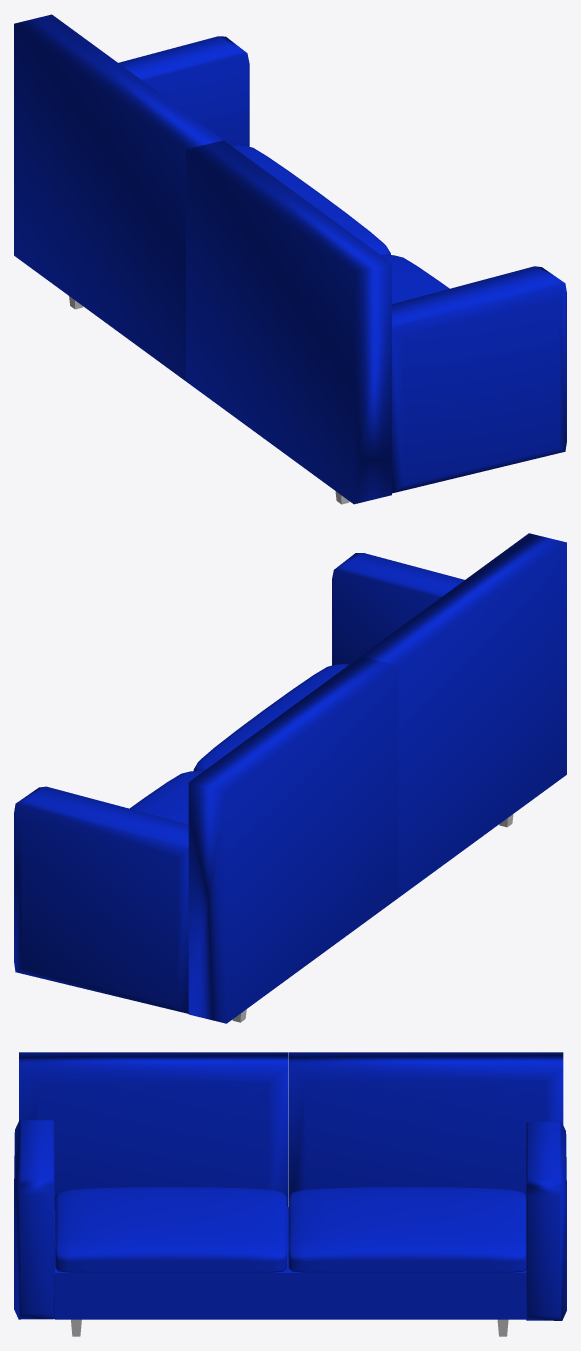
File: sofa.fbx
3 views of the same model, one above another, from view 1: azimuth 30°, elevation 25°; view 2: azimuth 150°, elevation 25°; view 3: azimuth 270°, elevation 25° (orthographic). The views are drawn at different scales.
Visible parts, largest first — view 1: Cube.005, Cube.004, Cube.003, Cube.002, Cube.006, Cube; view 2: Cube.004, Cube.005, Cube.002, Cube.003, Cube, Cube.006; view 3: Cube.004, Cube.005, Cube.001, Cube.006, Cube, Cube.003, Cube.002, Cube.007.
Part boxes in pixels (x1,y1,x2,y2): Cube.005: (186, 140, 391, 504); Cube.004: (14, 14, 223, 380); Cube.003: (392, 266, 566, 493); Cube.002: (118, 36, 249, 146); Cube.006: (231, 145, 390, 255); Cube: (381, 254, 449, 303); Cube.004: (188, 656, 398, 1023); Cube.005: (361, 533, 566, 897); Cube.002: (14, 786, 188, 1013); Cube.003: (332, 553, 464, 665); Cube: (193, 664, 348, 771); Cube.006: (130, 771, 202, 824); Cube.004: (288, 1052, 563, 1206); Cube.005: (19, 1052, 287, 1209); Cube.001: (54, 1207, 526, 1319); Cube.006: (288, 1187, 526, 1272); Cube: (55, 1187, 286, 1272); Cube.003: (14, 1120, 54, 1319); Cube.002: (526, 1121, 566, 1320); Cube.007: (71, 1319, 508, 1336).
Bounding box in the file's own units: 205 × 238 × 571.
